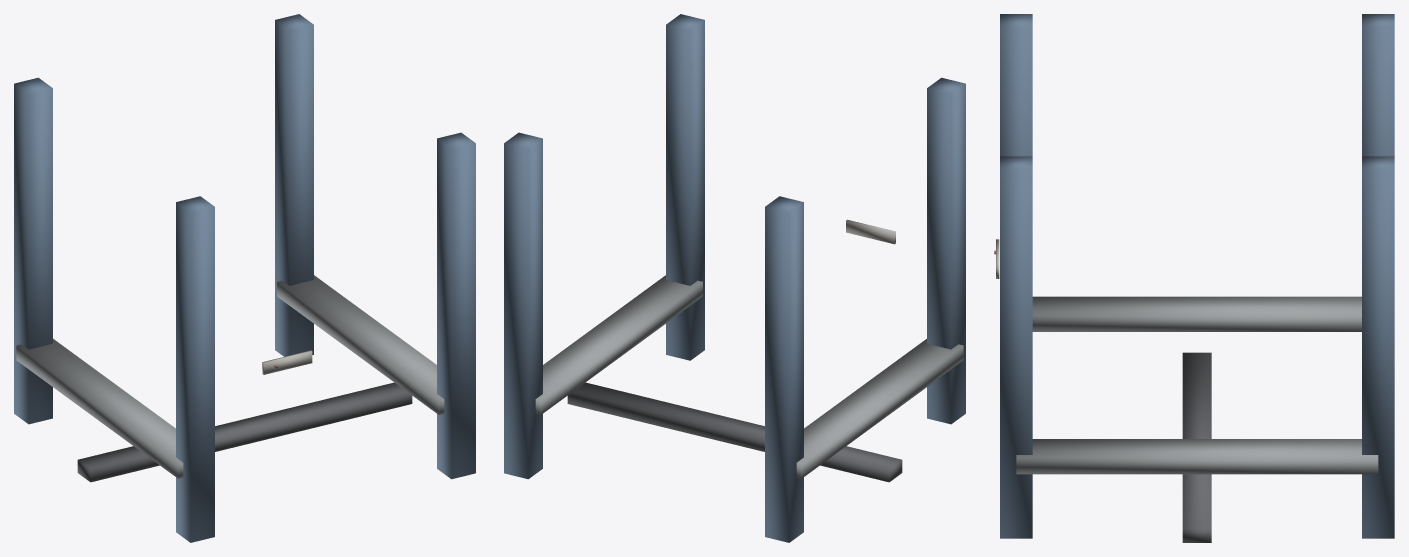
Rendered from four_post_car_lift__wide.glb.
The picture shows the model from 3 angles, left to right: view 1: azimuth 30°, elevation 25°; view 2: azimuth 150°, elevation 25°; view 3: azimuth 270°, elevation 25°; orthographic projection. The views are drawn at different scales.
Visible parts, largest first — view 1: world; view 2: world; view 3: world.
Boxes of the visible parts, x1,y1,x2,y2 form: world: [14, 14, 475, 542]; world: [504, 14, 965, 542]; world: [994, 14, 1394, 542].
Bounding box in the file's own units: 2.29 × 2.25 × 2.21.
